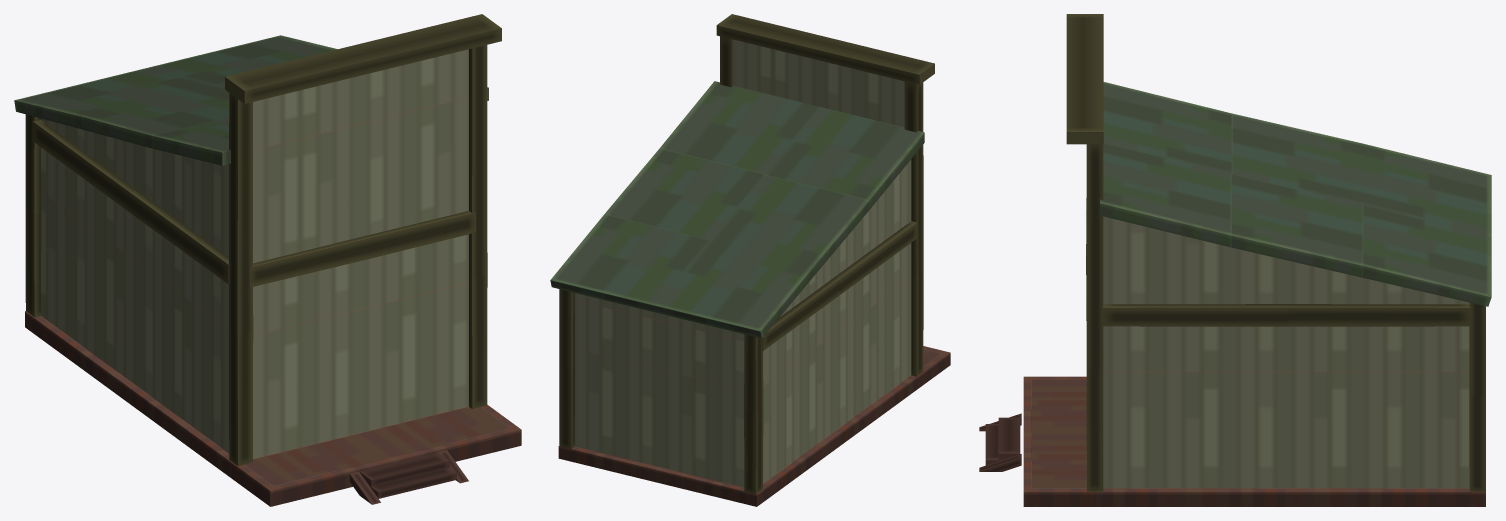
Rendered from house_v4_blank.fbx.
The picture shows the model from 3 angles, left to right: view 1: azimuth 30°, elevation 25°; view 2: azimuth 150°, elevation 25°; view 3: azimuth 270°, elevation 25°; orthographic projection. The views are drawn at different scales.
Visible parts, largest first — view 1: house_v4_blank; view 2: house_v4_blank; view 3: house_v4_blank.
Boxes of the visible parts, x1=… form: house_v4_blank: x1=14, y1=14, x2=521, y2=506; house_v4_blank: x1=550, y1=14, x2=950, y2=506; house_v4_blank: x1=979, y1=14, x2=1491, y2=506.
Bounding box in the file's own units: 451 × 647 × 798.
